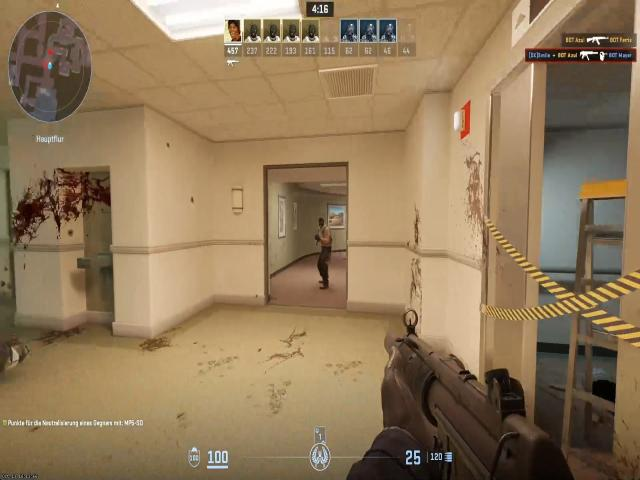T: (313, 216, 332, 262)
T-Head: (315, 217, 327, 234)
